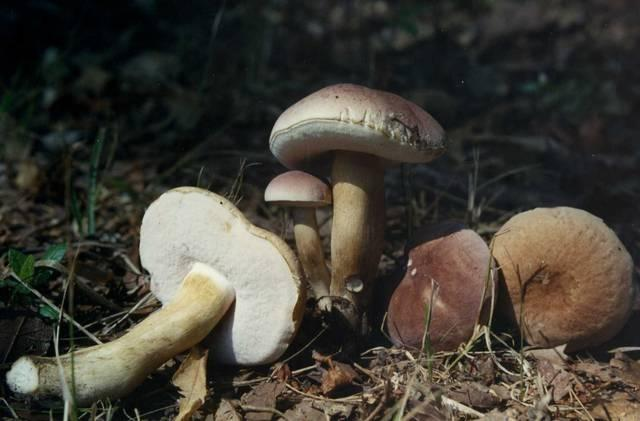Non-edible Mushroom: (266, 81, 447, 333), (4, 261, 236, 407), (137, 184, 307, 368), (488, 204, 634, 354), (384, 221, 495, 353), (262, 169, 332, 308)
